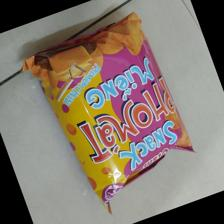Oishi_phomat: (22, 9, 196, 217)
